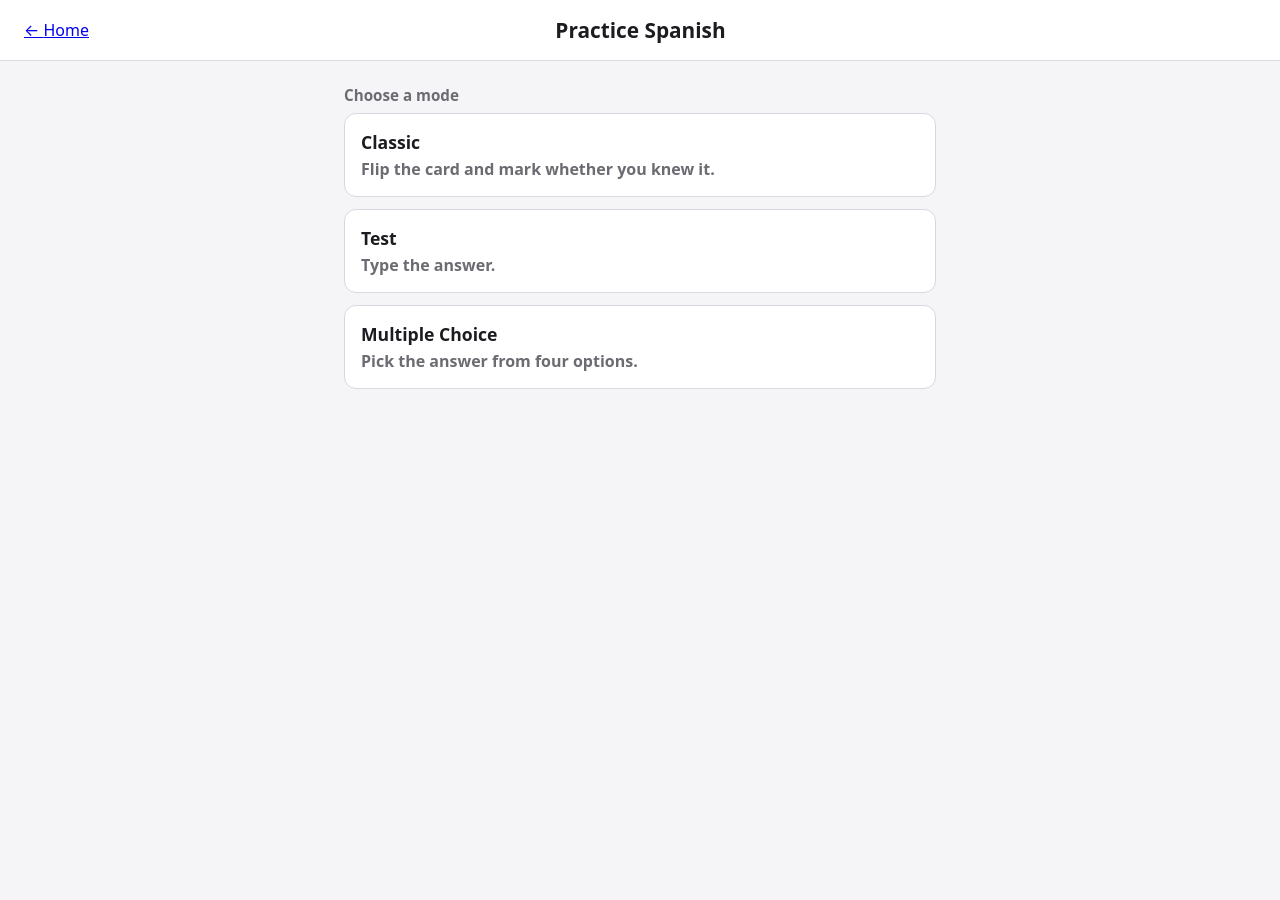
Test: ModeChooser › answering by voice (#387) › is offered for Multiple Choice too, which also has an answer to speak
The image size is (1280, 900).
Expected: the heading "Practice Spanish" is shown, [555,16,726,44]
Click the button "Multiple Choice Pick the answer from four options.".
click(640, 347)  # box [344,305,936,389]
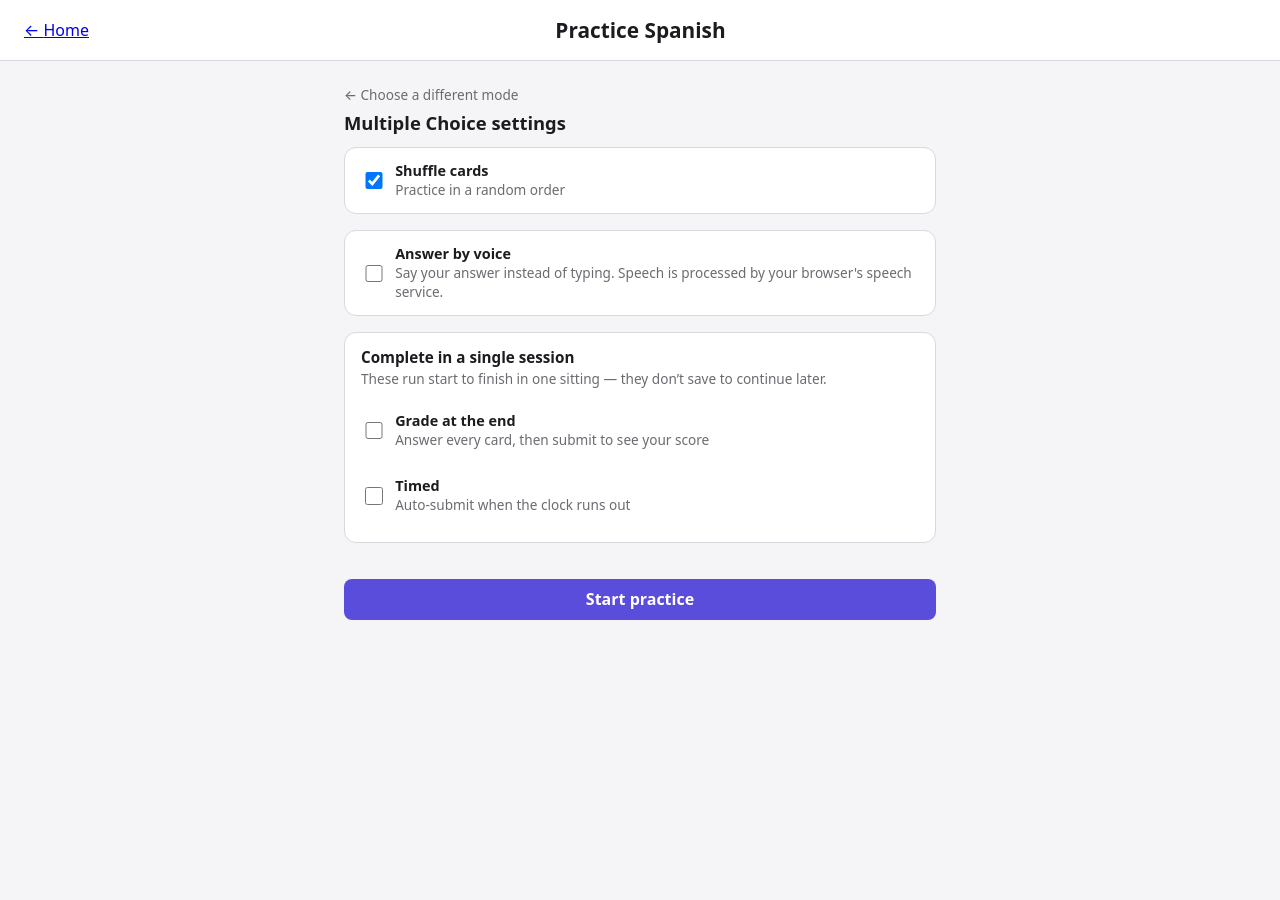
Expected: the checkbox labelled "Answer by voice" is enabled, [365,265,383,282]
